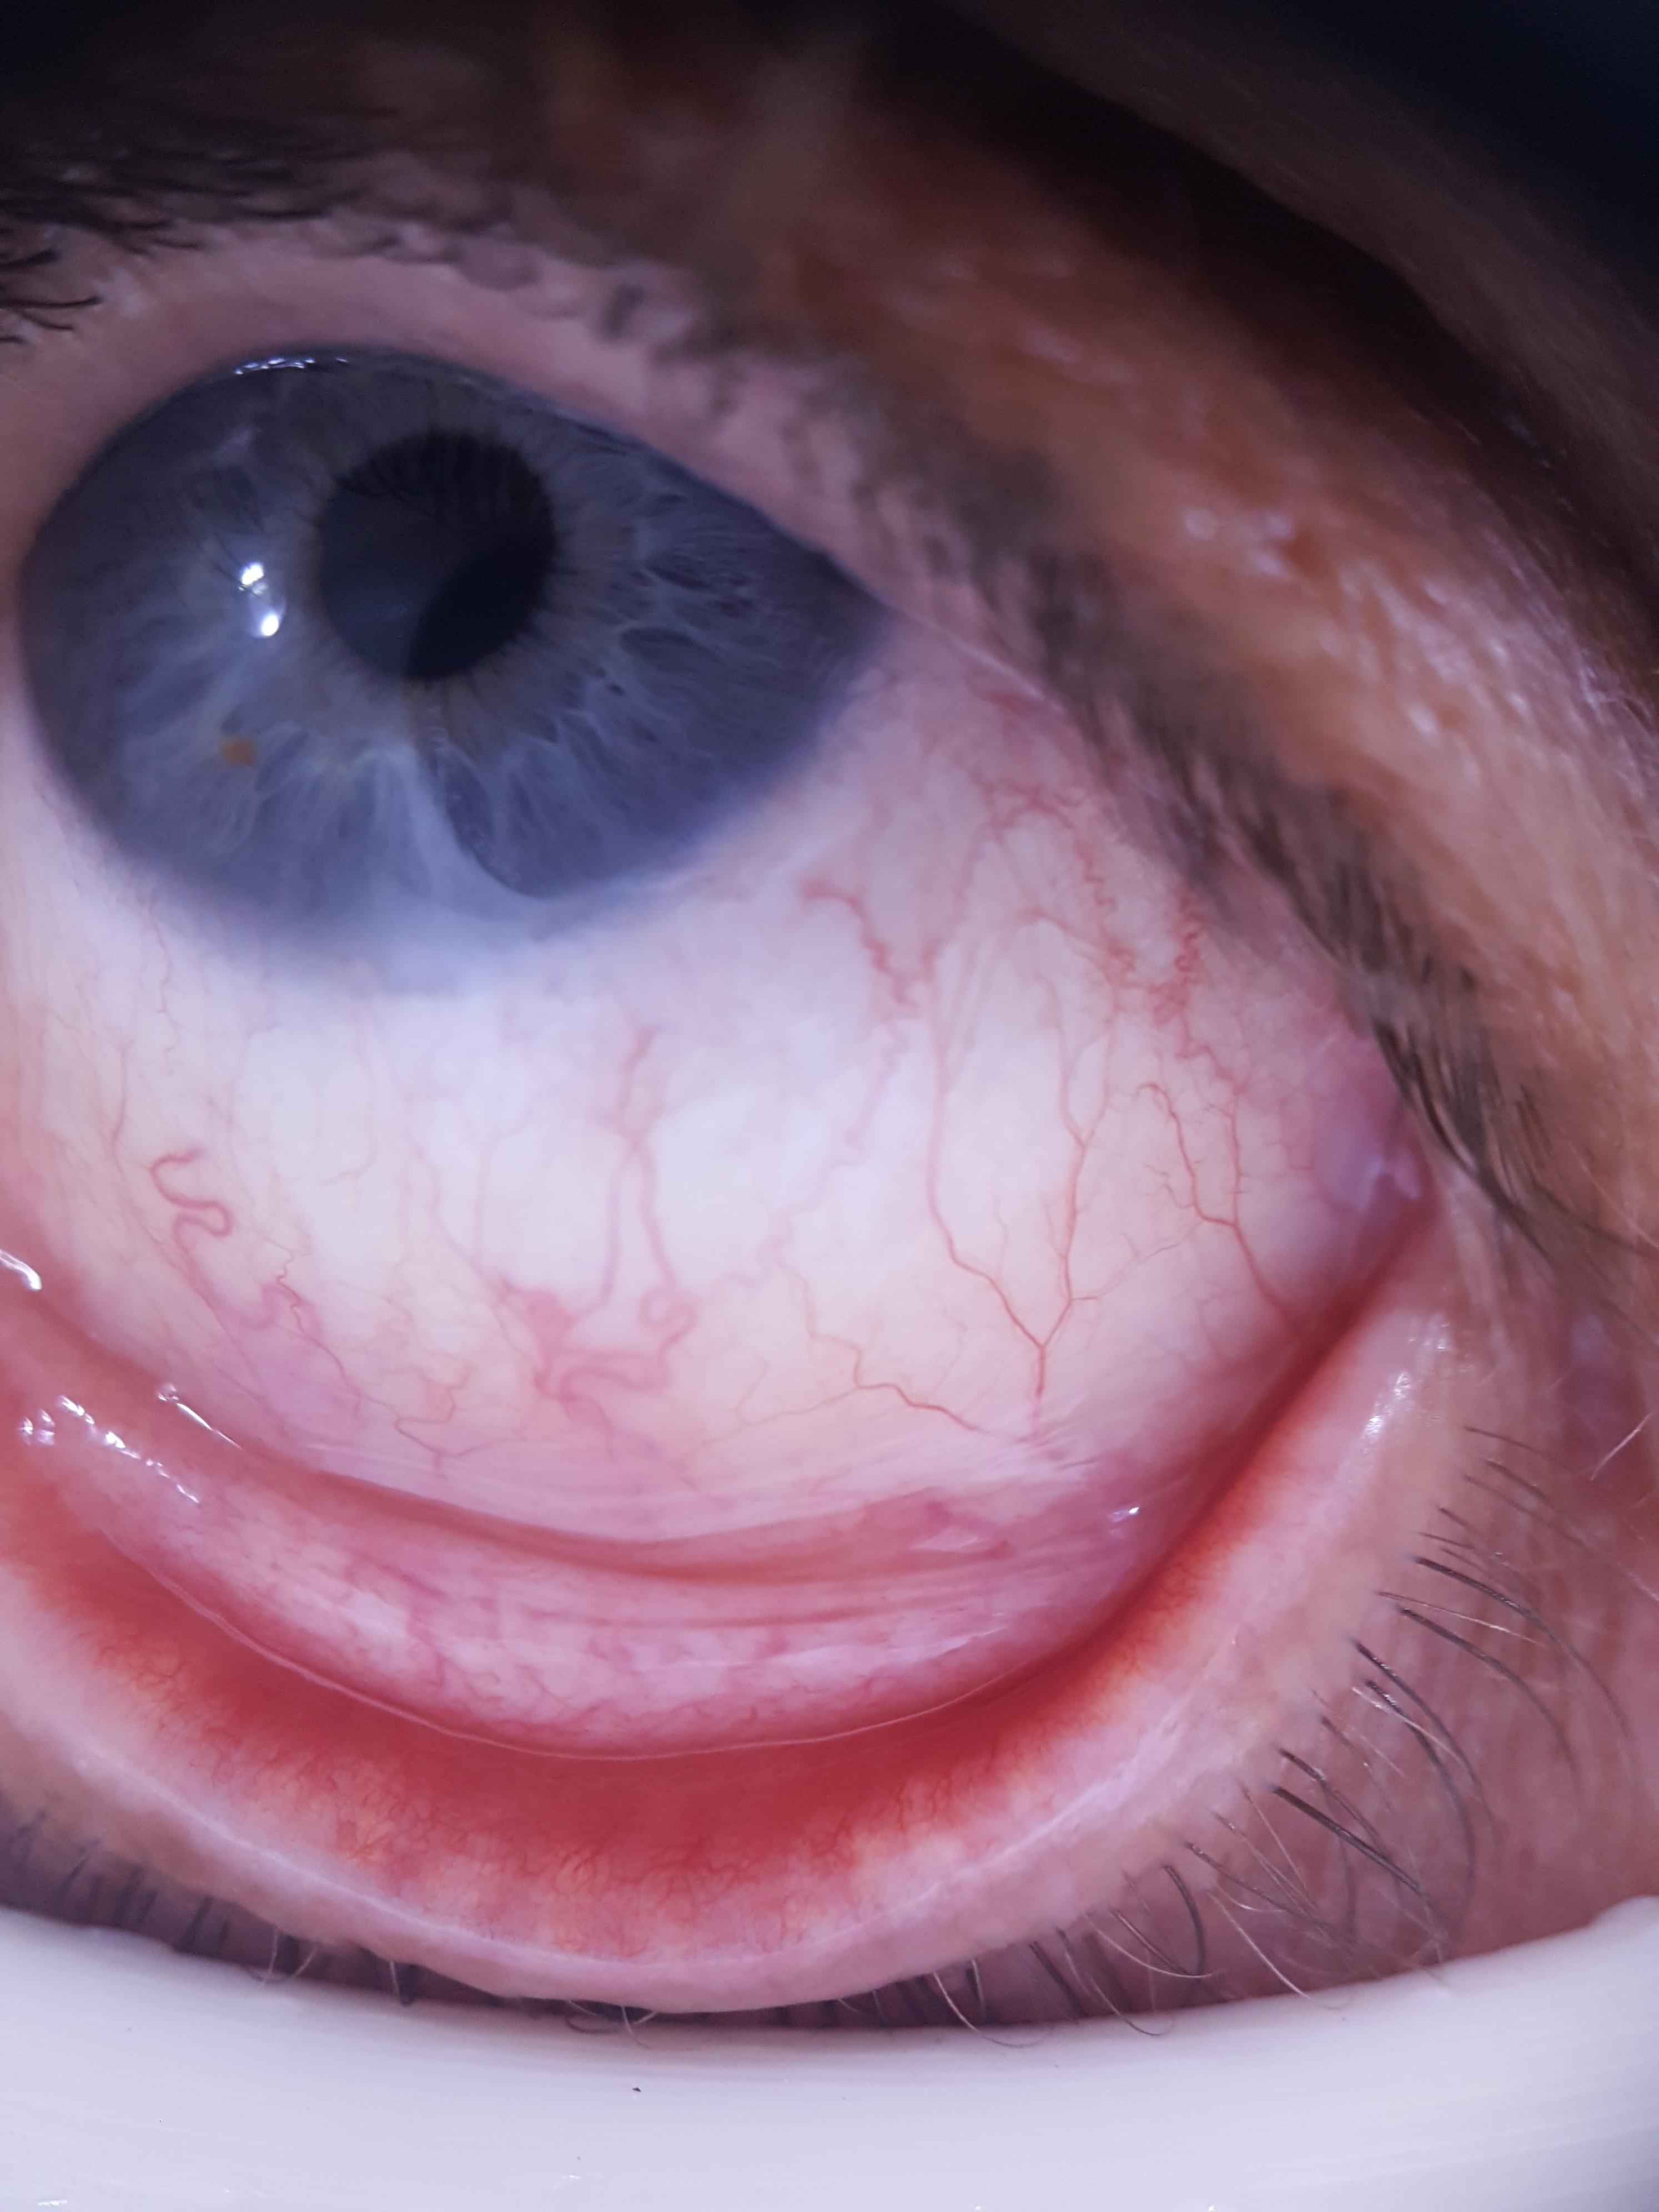forniceal: (0, 1263, 1202, 1752)
forniceal_palpebral: (0, 1252, 1352, 1930)
palpebral: (3, 1296, 1347, 1918)
